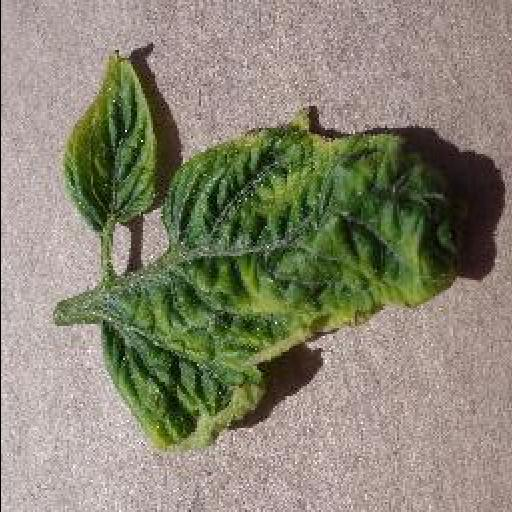disease_tomato: (102, 110, 460, 448), (64, 52, 158, 226)
